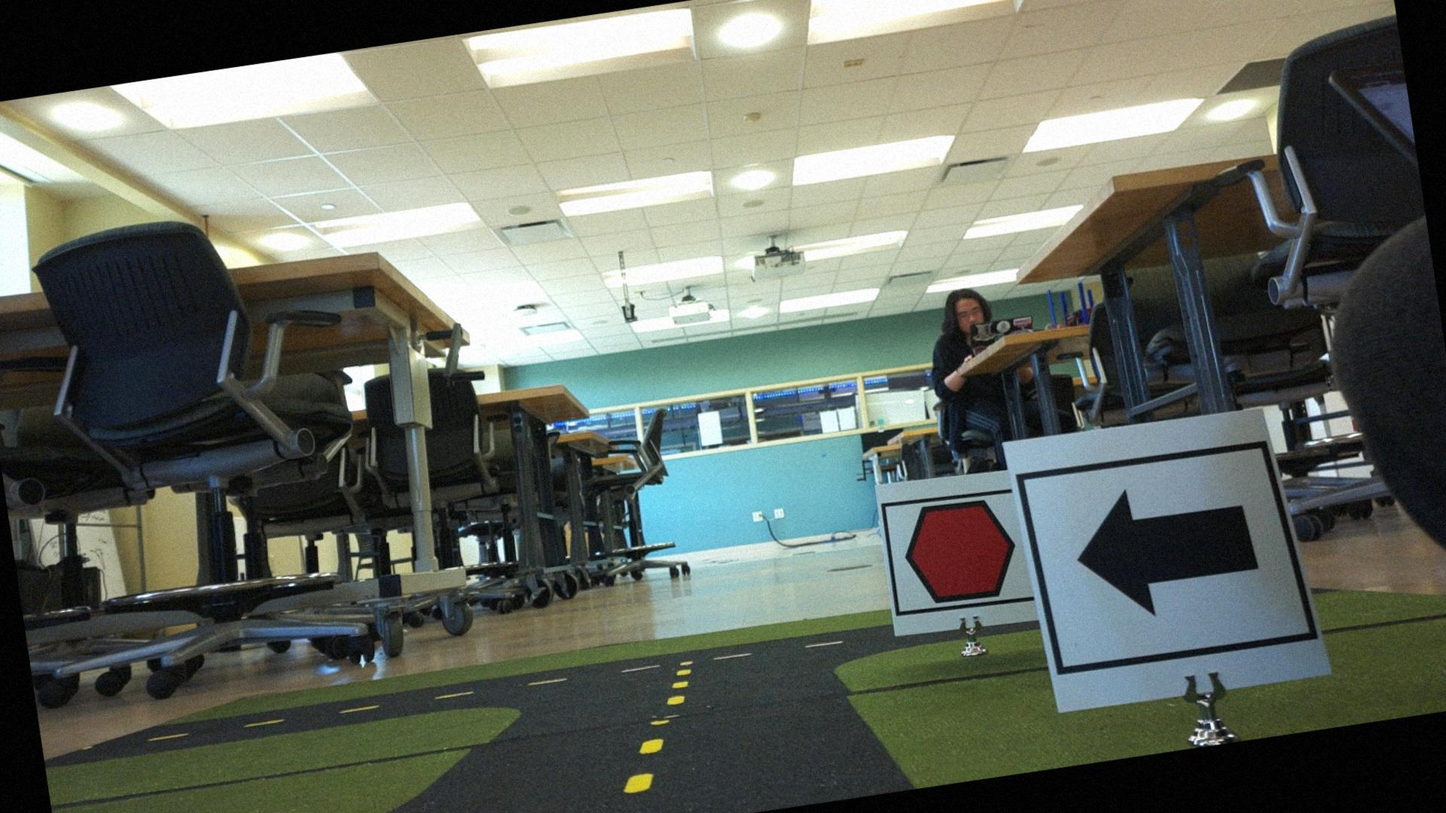stop: (890, 489, 1031, 617)
turnright: (1032, 445, 1295, 678)
yellowline: (597, 734, 673, 812), (660, 665, 694, 710)
